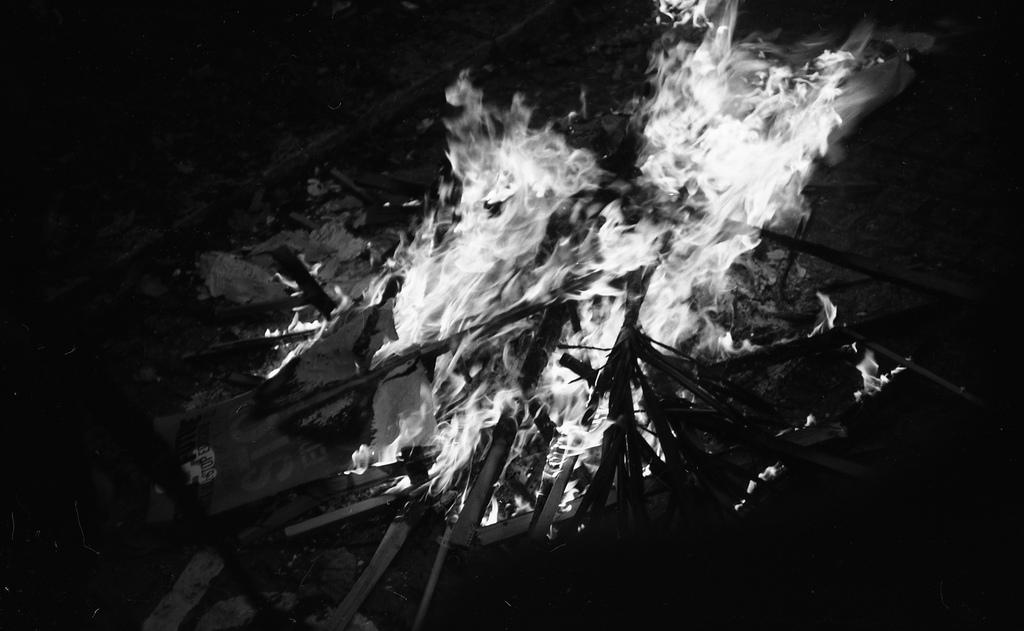fire: (448, 170, 577, 377), (667, 50, 793, 213)
